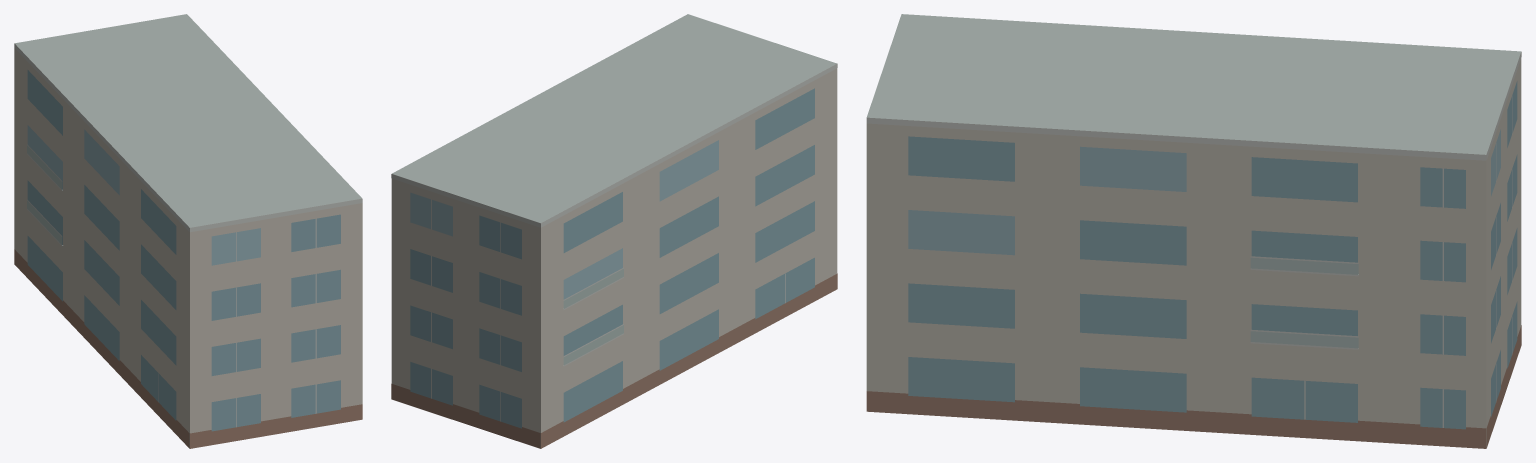
Rendered from residential-25bf110b-e77d-4a36-88f5-a8c0e7e0ff32.glb.
3 views of the same model, side by side, from view 1: azimuth 30°, elevation 25°; view 2: azimuth 150°, elevation 25°; view 3: azimuth 270°, elevation 25° (orthographic). The views are drawn at different scales.
Visible parts, largest first — view 1: residential-25bf110b-e77d-4a36-88f5-a8c0e7e0ff32.tmp; view 2: residential-25bf110b-e77d-4a36-88f5-a8c0e7e0ff32.tmp; view 3: residential-25bf110b-e77d-4a36-88f5-a8c0e7e0ff32.tmp.
Boxes of the visible parts, x1,y1,x2,y2 form: residential-25bf110b-e77d-4a36-88f5-a8c0e7e0ff32.tmp: (14, 14, 362, 448); residential-25bf110b-e77d-4a36-88f5-a8c0e7e0ff32.tmp: (391, 14, 837, 448); residential-25bf110b-e77d-4a36-88f5-a8c0e7e0ff32.tmp: (866, 14, 1521, 448).
Size of the model in its own units: 12.55 by 12.2 by 24.64.
